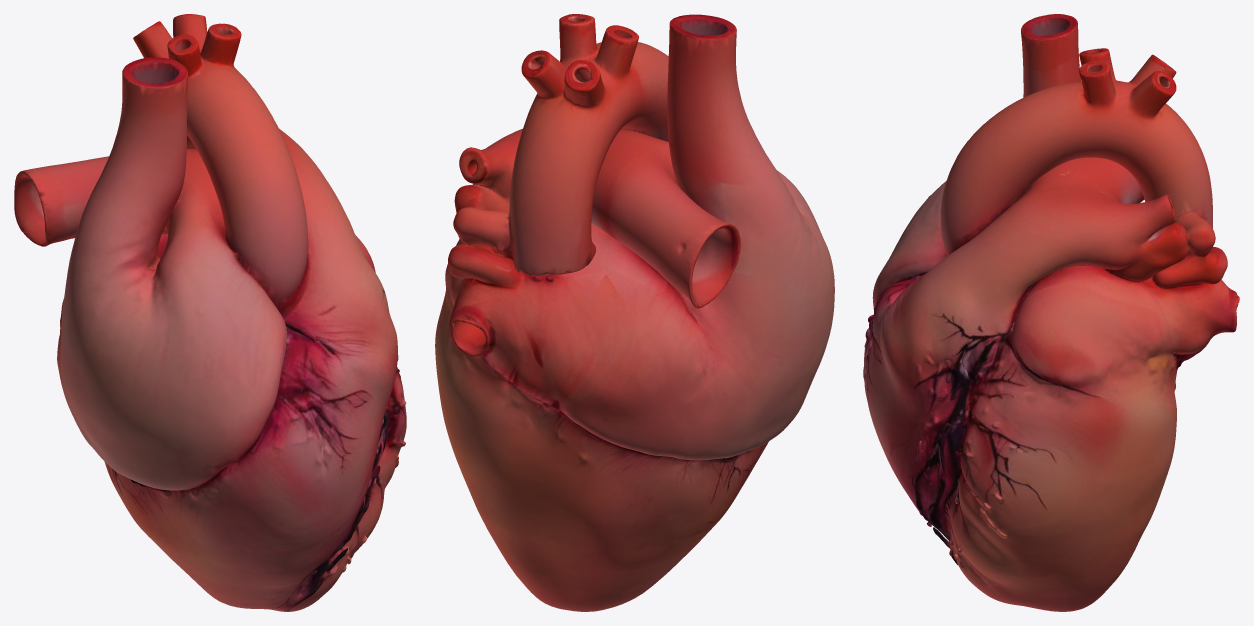
File: heart.glb
The picture shows the model from 3 angles, left to right: view 1: azimuth 30°, elevation 25°; view 2: azimuth 150°, elevation 25°; view 3: azimuth 270°, elevation 25°; orthographic projection. The views are drawn at different scales.
Parts seen in each view (by area): view 1: tripo_node_9eaecc28-1795-4124-93d4-c43dce393796; view 2: tripo_node_9eaecc28-1795-4124-93d4-c43dce393796; view 3: tripo_node_9eaecc28-1795-4124-93d4-c43dce393796.
Boxes of the visible parts, left/top/right/bottom form: tripo_node_9eaecc28-1795-4124-93d4-c43dce393796: left=14, top=14, right=406, bottom=611; tripo_node_9eaecc28-1795-4124-93d4-c43dce393796: left=435, top=14, right=834, bottom=611; tripo_node_9eaecc28-1795-4124-93d4-c43dce393796: left=863, top=14, right=1239, bottom=611.
Bounding box in the file's own units: 0.5964 × 0.9999 × 0.6433.
1 material, 1 textured.
